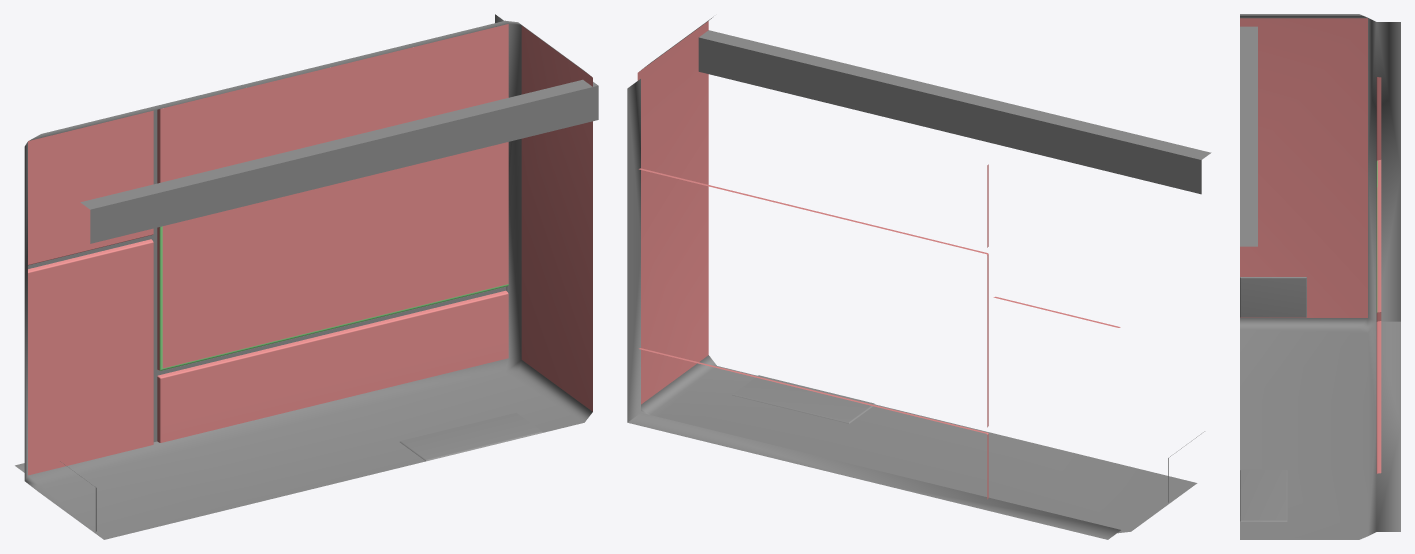
Rendered from S_Envi_Fyz_Building_105s.gltf.
3 views of the same model, side by side, from view 1: azimuth 30°, elevation 25°; view 2: azimuth 150°, elevation 25°; view 3: azimuth 270°, elevation 25° (orthographic). The views are drawn at different scales.
Visible parts, largest first — view 1: S_Envi_Fyz_Building_105s; view 2: S_Envi_Fyz_Building_105s; view 3: S_Envi_Fyz_Building_105s.
Part boxes in pixels (x1=…): S_Envi_Fyz_Building_105s: x1=15, y1=14, x2=598, y2=539; S_Envi_Fyz_Building_105s: x1=627, y1=16, x2=1211, y2=539; S_Envi_Fyz_Building_105s: x1=1240, y1=14, x2=1400, y2=539.
Size of the model in its own units: 7.93 by 5.25 by 2.43.
